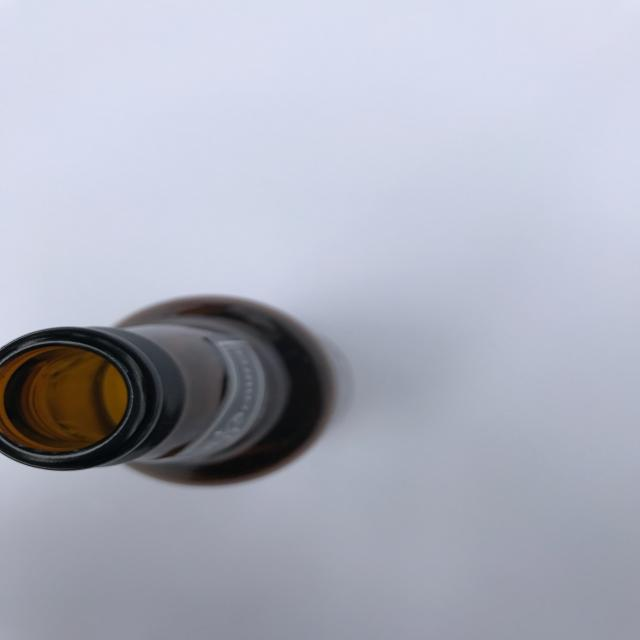glass: (1, 292, 338, 488)
